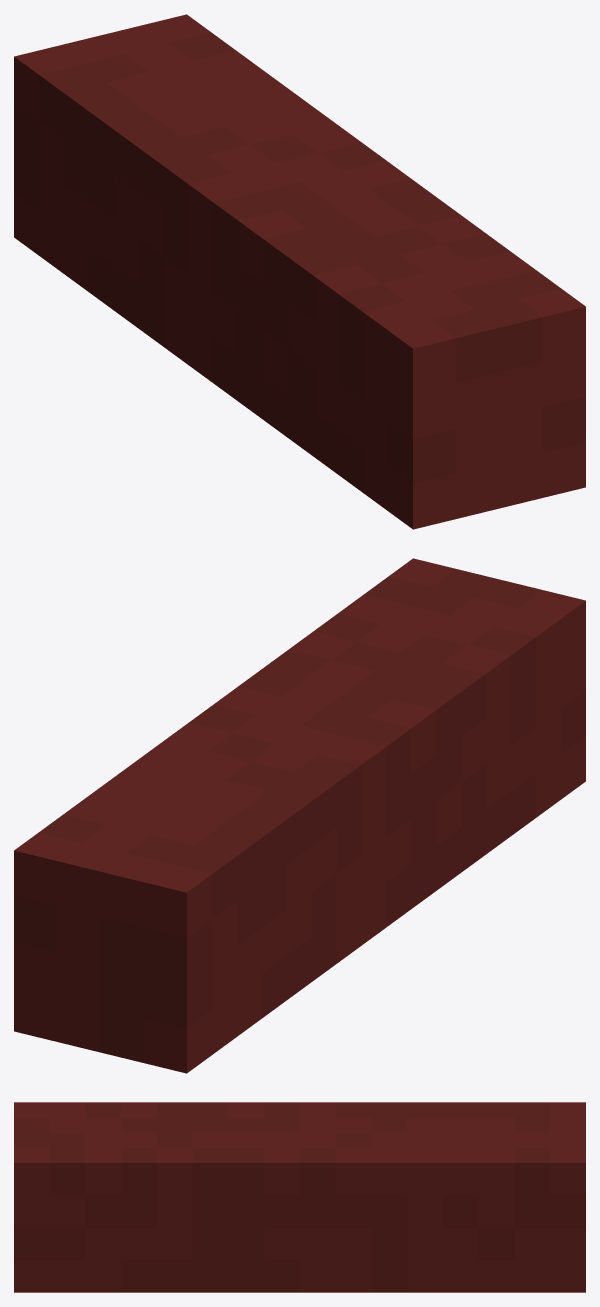
Rendered from tavern-31-roof_redtop4px.obj.
3 renders of one model, top to bottom at view 1: azimuth 30°, elevation 25°; view 2: azimuth 150°, elevation 25°; view 3: azimuth 270°, elevation 25°, orthographic. The views are drawn at different scales.
Visible parts, largest first — view 1: roof_redtop4px; view 2: roof_redtop4px; view 3: roof_redtop4px.
Boxes of the visible parts, x1,y1,x2,y2 form: roof_redtop4px: [14, 14, 585, 529]; roof_redtop4px: [14, 558, 585, 1073]; roof_redtop4px: [14, 1102, 585, 1292].
Bounding box in the file's own units: 0.4 × 0.4 × 1.6.
1 material, 1 textured.
